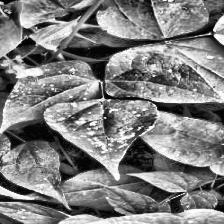Bean Rust: (48, 98, 154, 179), (107, 54, 224, 108), (0, 64, 92, 128), (138, 38, 224, 105), (0, 140, 69, 211), (0, 193, 54, 224)
